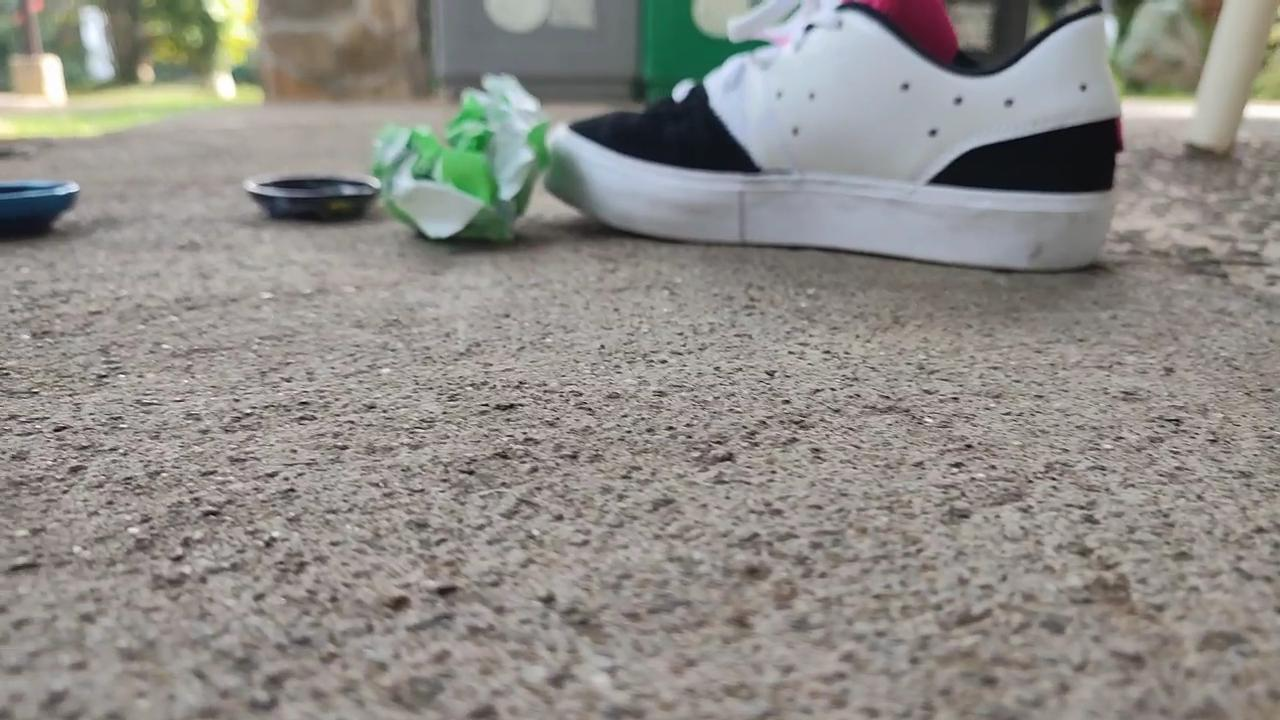Paper: (351, 59, 558, 255)
